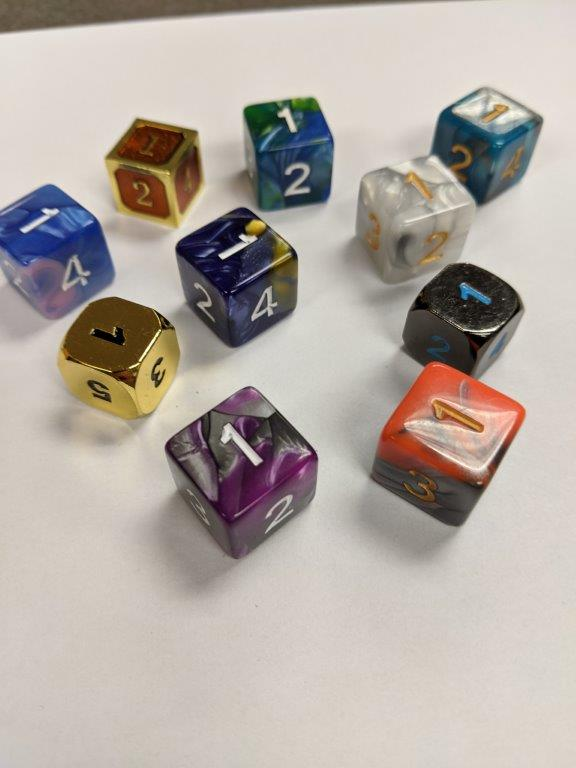d6-1: (163, 385, 319, 564), (373, 361, 530, 535), (175, 207, 303, 348), (1, 182, 120, 322), (55, 296, 180, 423), (398, 259, 527, 378), (356, 154, 476, 279), (433, 83, 545, 208), (240, 96, 337, 212), (103, 115, 203, 227)
